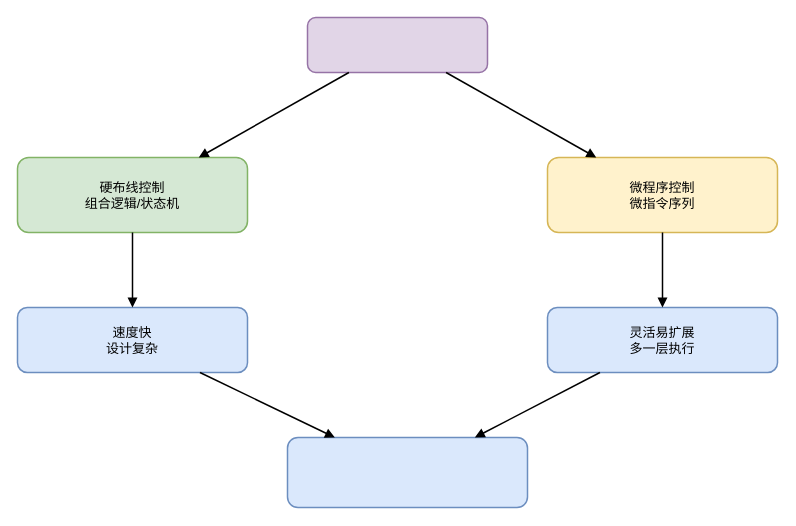
The diagram is 796 pixels wide and 526 high, and some of its shapes have lost their labels. Here are the shapes that lost their labels. From the top down, the centre of each, then its label:
At [397,44]: "指令译码".
At [407,472]: "控制信号 驱动数据通路".
